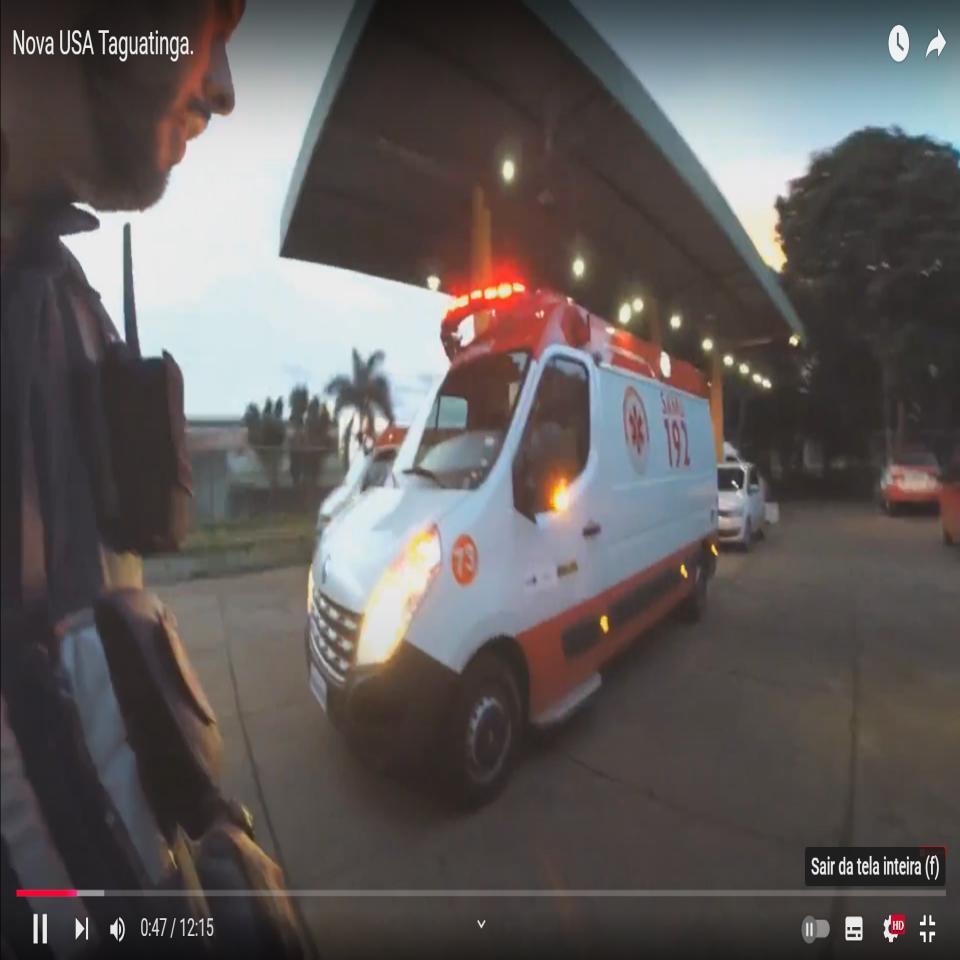bombeiro: (302, 275, 722, 808)
